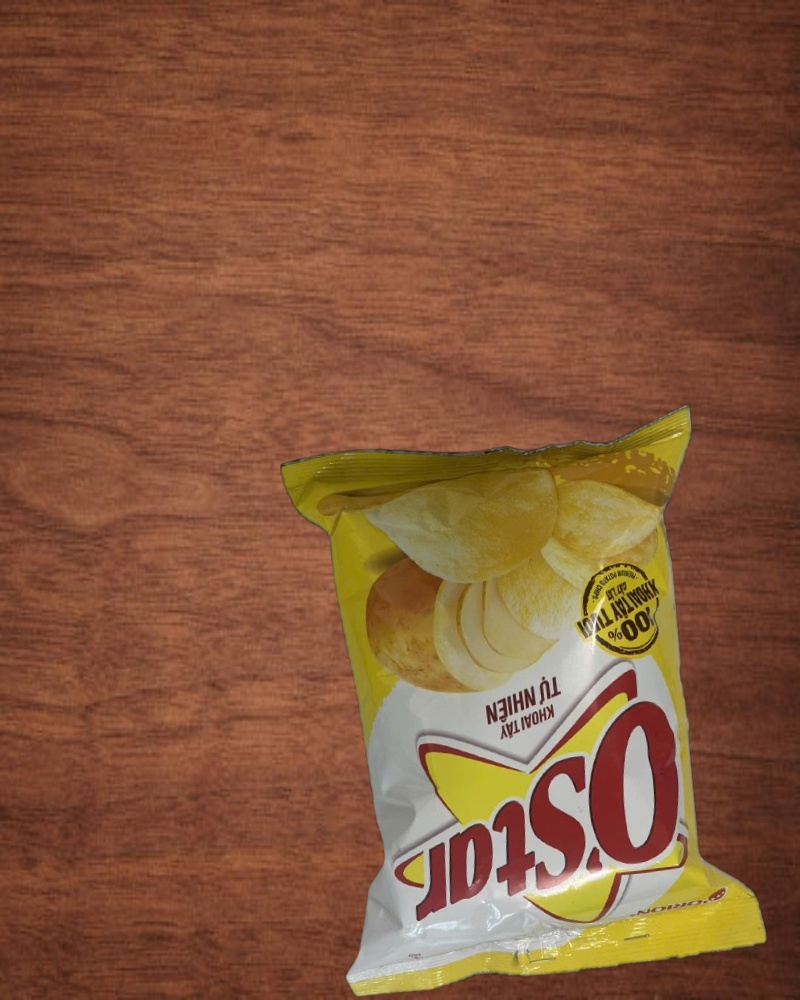Snack cua: (284, 409, 767, 993)
